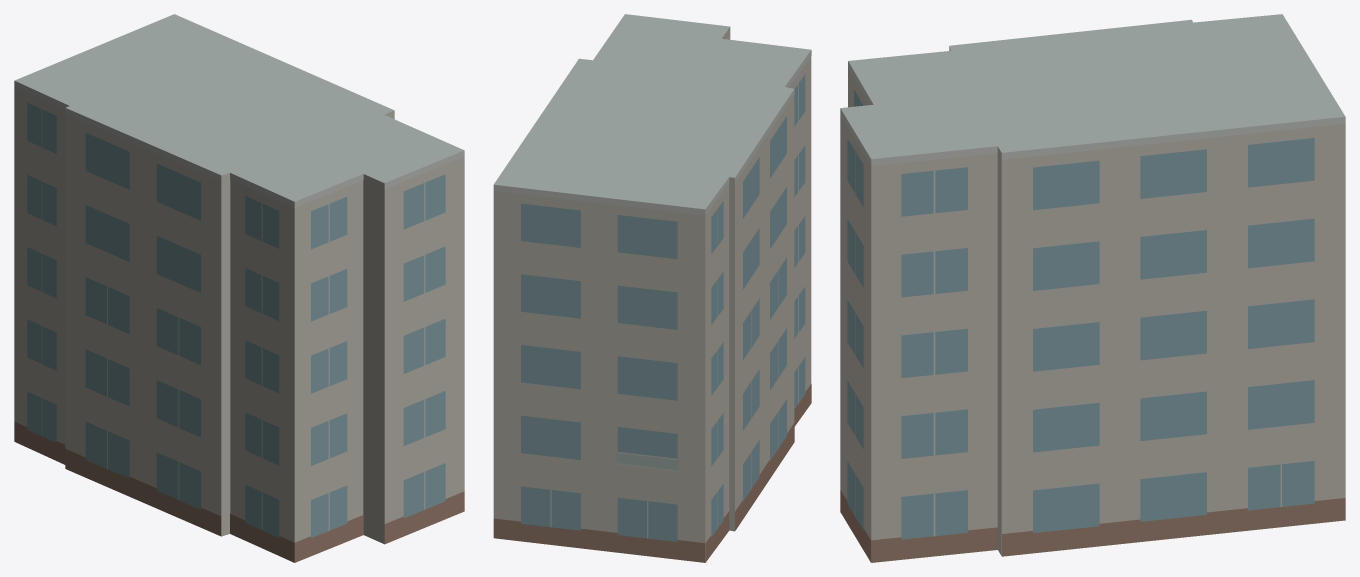
The model's file is survey-upis-32705085.glb.
3 renders of one model, left to right at view 1: azimuth 30°, elevation 25°; view 2: azimuth 150°, elevation 25°; view 3: azimuth 270°, elevation 25°, orthographic. The views are drawn at different scales.
Visible parts, largest first — view 1: survey-upis-32705085.tmp; view 2: survey-upis-32705085.tmp; view 3: survey-upis-32705085.tmp.
Boxes of the visible parts, x1,y1,x2,y2 form: survey-upis-32705085.tmp: [14, 14, 464, 562]; survey-upis-32705085.tmp: [493, 14, 811, 562]; survey-upis-32705085.tmp: [840, 14, 1345, 562].
Size of the model in its own units: 10.98 by 14.23 by 16.15.
